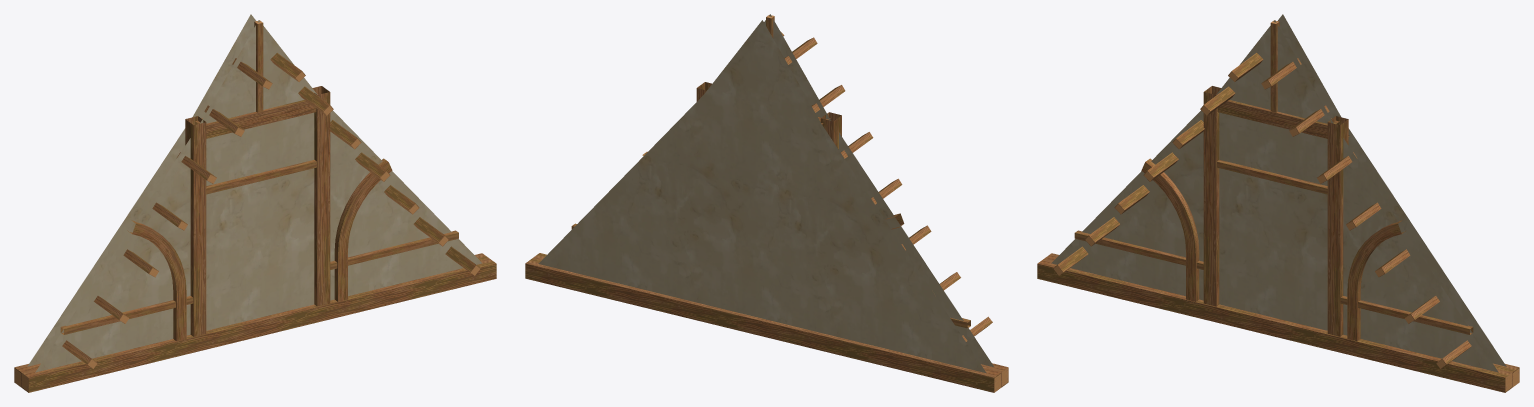
The model's file is roof_front_brick8.glb.
3 renders of one model, left to right at view 1: azimuth 30°, elevation 25°; view 2: azimuth 150°, elevation 25°; view 3: azimuth 330°, elevation 25°, orthographic.
Size of the model in its own units: 8.51 by 5.45 by 1.13.
Materials: 2 (2 with a texture image).
